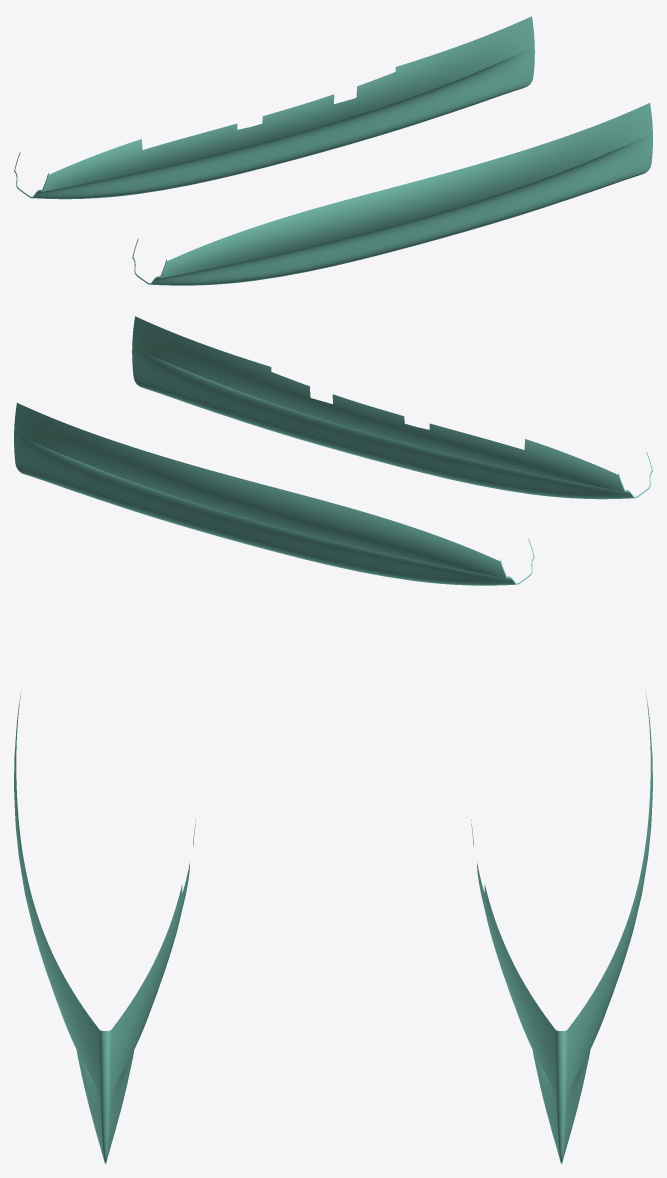
Rendered from HULLS, INTERNALS, ETC.__hull.gltf.
3 renders of one model, top to bottom at view 1: azimuth 30°, elevation 25°; view 2: azimuth 150°, elevation 25°; view 3: azimuth 270°, elevation 25°, orthographic. The views are drawn at different scales.
Parts seen in each view (by area): view 1: lower (×2); view 2: lower (×2); view 3: lower (×2).
Boxes of the visible parts, <box> form: lower (×2): <box>14,16,652,285</box>; lower (×2): <box>14,316,652,585</box>; lower (×2): <box>14,692,652,1163</box>.
Size of the model in its own units: 11.4 by 1.77 by 6.41.
